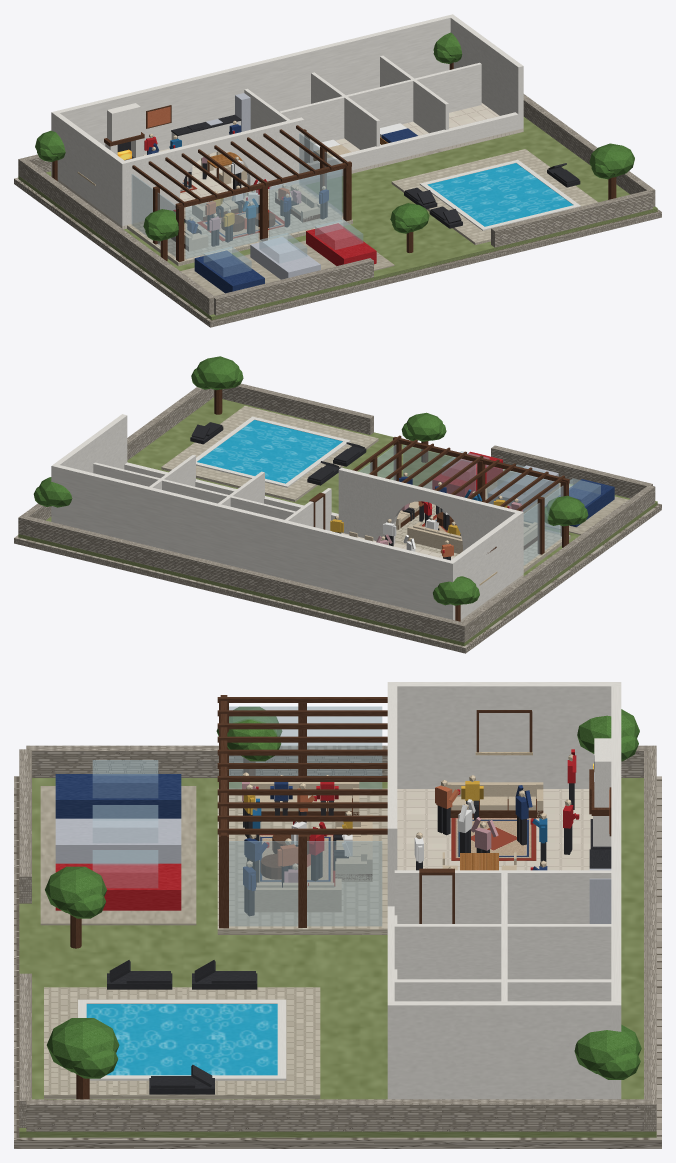
File: villa4_cristian.glb
The picture shows the model from 3 angles, top to bottom: view 1: azimuth 30°, elevation 25°; view 2: azimuth 150°, elevation 25°; view 3: azimuth 270°, elevation 25°; orthographic projection. The views are drawn at different scales.
Parts seen in each view (by area): view 1: Wall_N, Base_Terrain, Front_Arch_V, Wing_H, Base_Trim, Cristian_Pool_water, Wall_W, Wall_DryW, Telo_FrontL, Wall_E, Telo_FrontR, Front_Sill_E (+33 smaller); view 2: Wall_N, Wall_DryN, Base_Terrain, Front_Arch_V, Base_Trim, Cristian_Pool_water, Wall_DryW, Wall_W, Cristian_Pool_deck, Wall_DryS2, Wall_DryS1, Wall_E (+24 smaller); view 3: Base_Terrain, Wall_E, Wall_DryE, Wall_W, Telo_East, Cristian_Pool_water, Base_Trim, Wing_V1, Cristian_Pool_deck, Wing_Div, Wall_DryW, Veranda_Floor (+54 smaller).
Boxes of the visible parts, x1=… form: Wall_N: x1=51, y1=15, x2=450, y2=174; Base_Terrain: x1=18, y1=117, x2=657, y2=320; Front_Arch_V: x1=123, y1=117, x2=304, y2=225; Wing_H: x1=279, y1=62, x2=481, y2=143; Base_Trim: x1=14, y1=177, x2=661, y2=327; Cristian_Pool_water: x1=427, y1=163, x2=573, y2=226; Wall_W: x1=51, y1=111, x2=125, y2=226; Wall_DryW: x1=21, y1=159, x2=213, y2=315; Telo_FrontL: x1=185, y1=190, x2=258, y2=258; Wall_E: x1=448, y1=14, x2=523, y2=129; Telo_FrontR: x1=269, y1=169, x2=341, y2=238; Front_Sill_E: x1=304, y1=112, x2=518, y2=180; Wall_N: x1=51, y1=465, x2=455, y2=619; Wall_DryN: x1=18, y1=516, x2=468, y2=642; Base_Terrain: x1=18, y1=397, x2=657, y2=646; Front_Arch_V: x1=338, y1=467, x2=519, y2=550; Base_Trim: x1=14, y1=503, x2=661, y2=653; Cristian_Pool_water: x1=197, y1=420, x2=342, y2=483; Wall_DryW: x1=460, y1=485, x2=655, y2=639; Wall_W: x1=447, y1=511, x2=523, y2=620; Cristian_Pool_deck: x1=161, y1=406, x2=378, y2=499; Wall_DryS2: x1=222, y1=383, x2=373, y2=434; Wall_DryS1: x1=491, y1=445, x2=652, y2=498; Wall_E: x1=52, y1=414, x2=127, y2=472; Base_Terrain: x1=19, y1=778, x2=656, y2=1137; Wall_E: x1=387, y1=1001, x2=621, y2=1099; Wall_DryE: x1=26, y1=1099, x2=649, y2=1131; Wall_W: x1=387, y1=682, x2=621, y2=788; Telo_East: x1=229, y1=841, x2=382, y2=926; Cristian_Pool_water: x1=86, y1=1004, x2=277, y2=1075; Base_Trim: x1=14, y1=776, x2=661, y2=1148; Wing_V1: x1=394, y1=924, x2=611, y2=979; Cristian_Pool_deck: x1=44, y1=987, x2=320, y2=1094; Wing_Div: x1=394, y1=870, x2=611, y2=923; Wall_DryW: x1=26, y1=745, x2=649, y2=777; Veranda_Floor: x1=217, y1=788, x2=387, y2=929.
Size of the model in its own units: 24.3 by 3.84 by 18.3.
22 materials, 22 textured.
